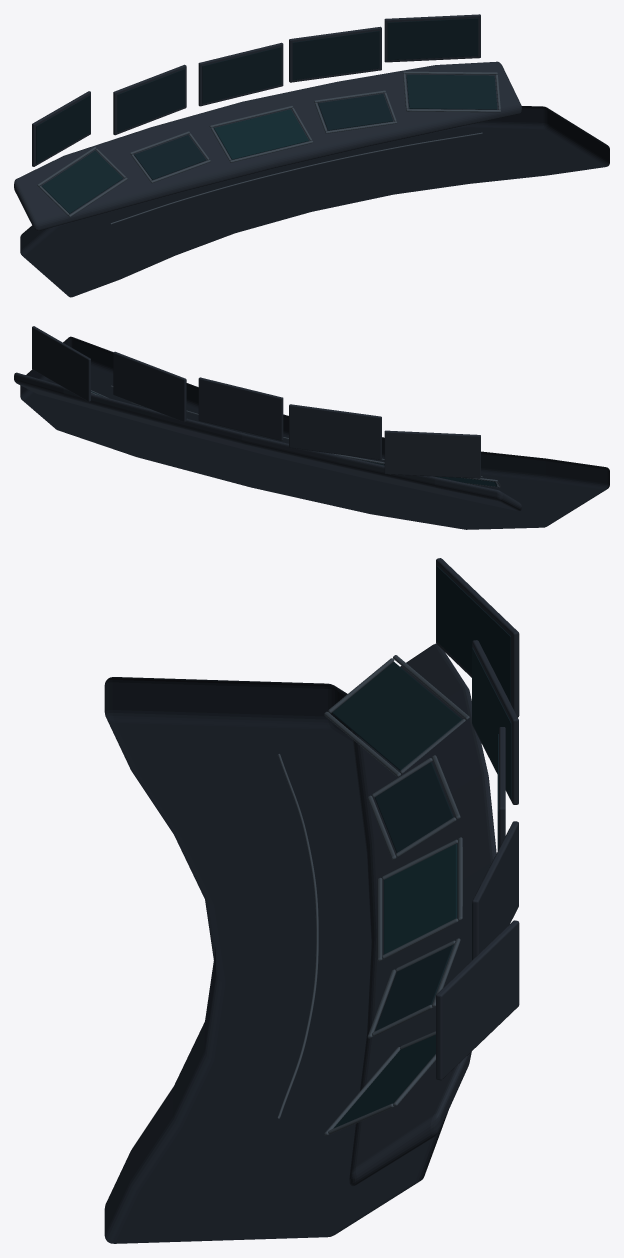
The model's file is boardroom_physical_stage.glb.
3 views of the same model, one above another, from view 1: azimuth 30°, elevation 25°; view 2: azimuth 150°, elevation 25°; view 3: azimuth 270°, elevation 25° (orthographic). The views are drawn at different scales.
Visible parts, largest first — view 1: CommandDesk.Shell, CommandBank.Continuous, Monitor.04.Glass, Monitor.03.Glass, DeskInsert.04.Glass, Monitor.02.Glass, DeskInsert.02.Glass, Monitor.01.Glass, DeskInsert.00.Glass, Monitor.00.Glass, DeskInsert.03.Glass, DeskInsert.01.Glass (+6 smaller); view 2: CommandDesk.Shell, CommandBank.Continuous, Monitor.00.Housing, Monitor.01.Housing, Monitor.02.Housing, Monitor.03.Housing, Monitor.04.Housing; view 3: CommandDesk.Shell, CommandBank.Continuous, Monitor.04.Housing, DeskInsert.00.Glass, DeskInsert.02.Glass, Monitor.00.Glass, DeskInsert.01.Glass, Monitor.03.Housing, DeskInsert.04.Glass, DeskInsert.03.Glass, Monitor.01.Glass, Monitor.00.Housing (+2 smaller).
Boxes of the visible parts, box(x1,y1,x2,y2) form: CommandDesk.Shell: box(20, 106, 609, 297); CommandBank.Continuous: box(14, 61, 521, 230); Monitor.04.Glass: box(387, 18, 478, 60); Monitor.03.Glass: box(292, 31, 379, 80); DeskInsert.04.Glass: box(406, 74, 497, 109); Monitor.02.Glass: box(202, 47, 281, 103); DeskInsert.02.Glass: box(214, 109, 308, 159); Monitor.01.Glass: box(117, 69, 184, 132); DeskInsert.00.Glass: box(41, 150, 123, 213); Monitor.00.Glass: box(36, 95, 90, 163); DeskInsert.03.Glass: box(318, 94, 392, 130); DeskInsert.01.Glass: box(134, 135, 206, 179); CommandDesk.Shell: box(20, 336, 609, 529); CommandBank.Continuous: box(14, 372, 521, 511); Monitor.00.Housing: box(384, 430, 480, 478); Monitor.01.Housing: box(289, 404, 381, 459); Monitor.02.Housing: box(198, 377, 283, 440); Monitor.03.Housing: box(113, 351, 186, 421); Monitor.04.Housing: box(32, 326, 90, 401); CommandDesk.Shell: box(104, 677, 447, 1243); CommandBank.Continuous: box(349, 643, 496, 1186); Monitor.04.Housing: box(436, 920, 519, 1080); DeskInsert.00.Glass: box(332, 662, 462, 770); DeskInsert.02.Glass: box(384, 844, 457, 954); Monitor.00.Glass: box(436, 566, 510, 703); DeskInsert.01.Glass: box(375, 762, 453, 852); Monitor.03.Housing: box(472, 821, 518, 959); DeskInsert.04.Glass: box(333, 1034, 435, 1128); DeskInsert.03.Glass: box(375, 945, 453, 1030); Monitor.01.Glass: box(472, 647, 511, 798); Monitor.00.Housing: box(436, 558, 519, 717).
Size of the model in its own units: 11.09 by 2.11 by 3.67.
